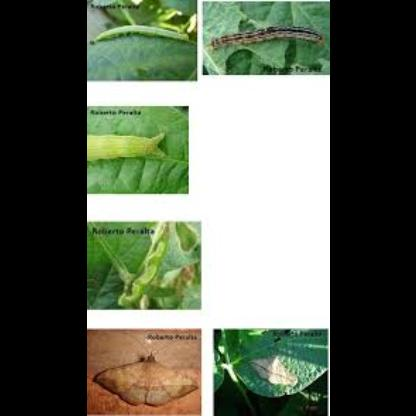oruga: (209, 24, 325, 53), (87, 20, 194, 48)
